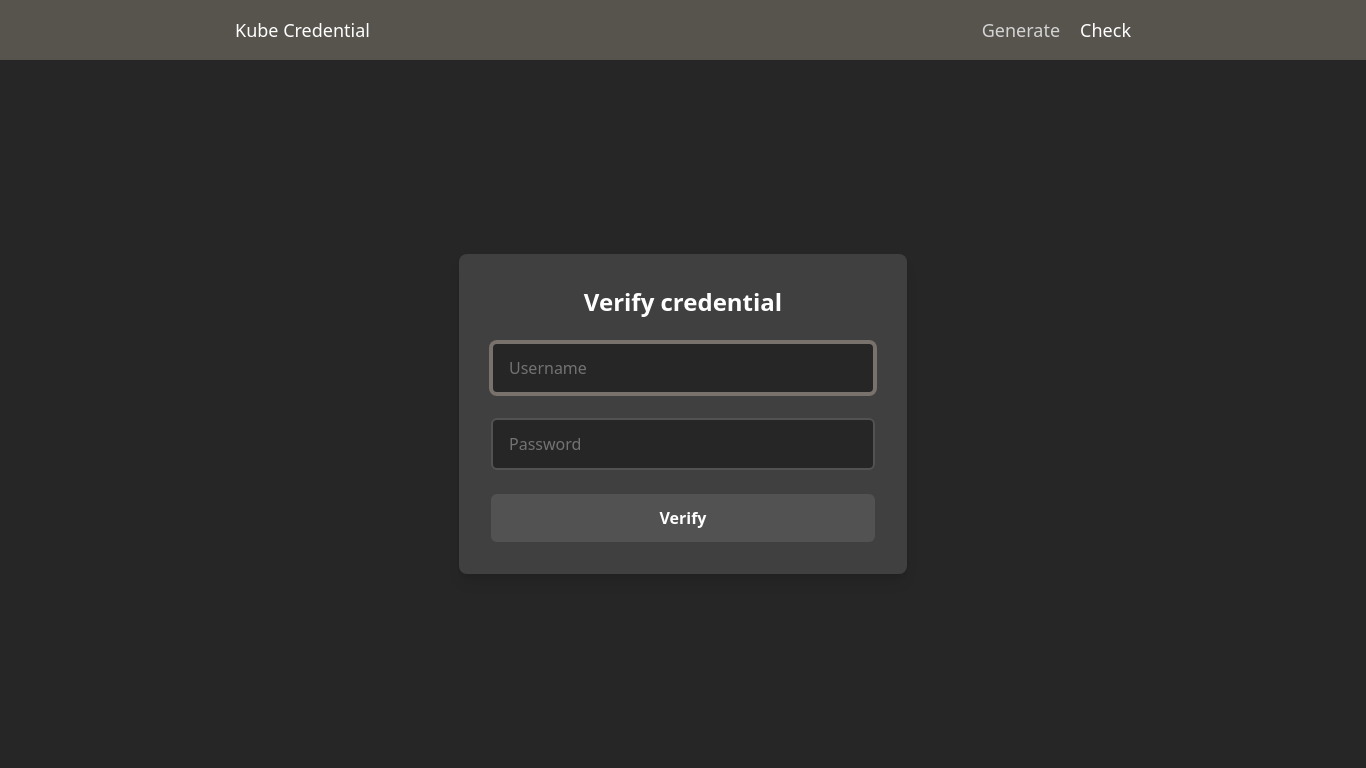
Test: VerifyPage › should show an error modal when the username and password combo is invalid
Type "test-user" into the field with placeholder "Username" at (683, 368), box 491,342 -> 875,394
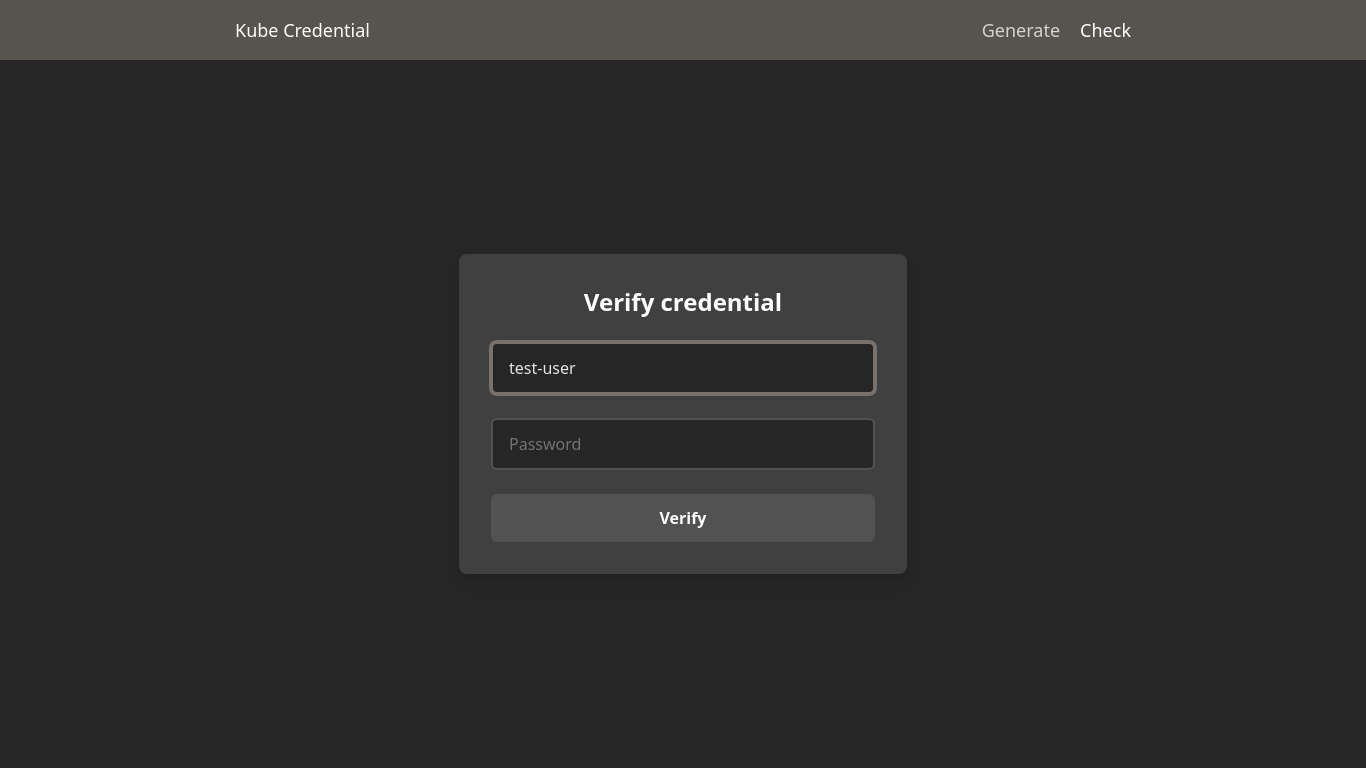
Type "test-password-123" into the password field with placeholder "Password" at (683, 444), box 491,418 -> 875,470
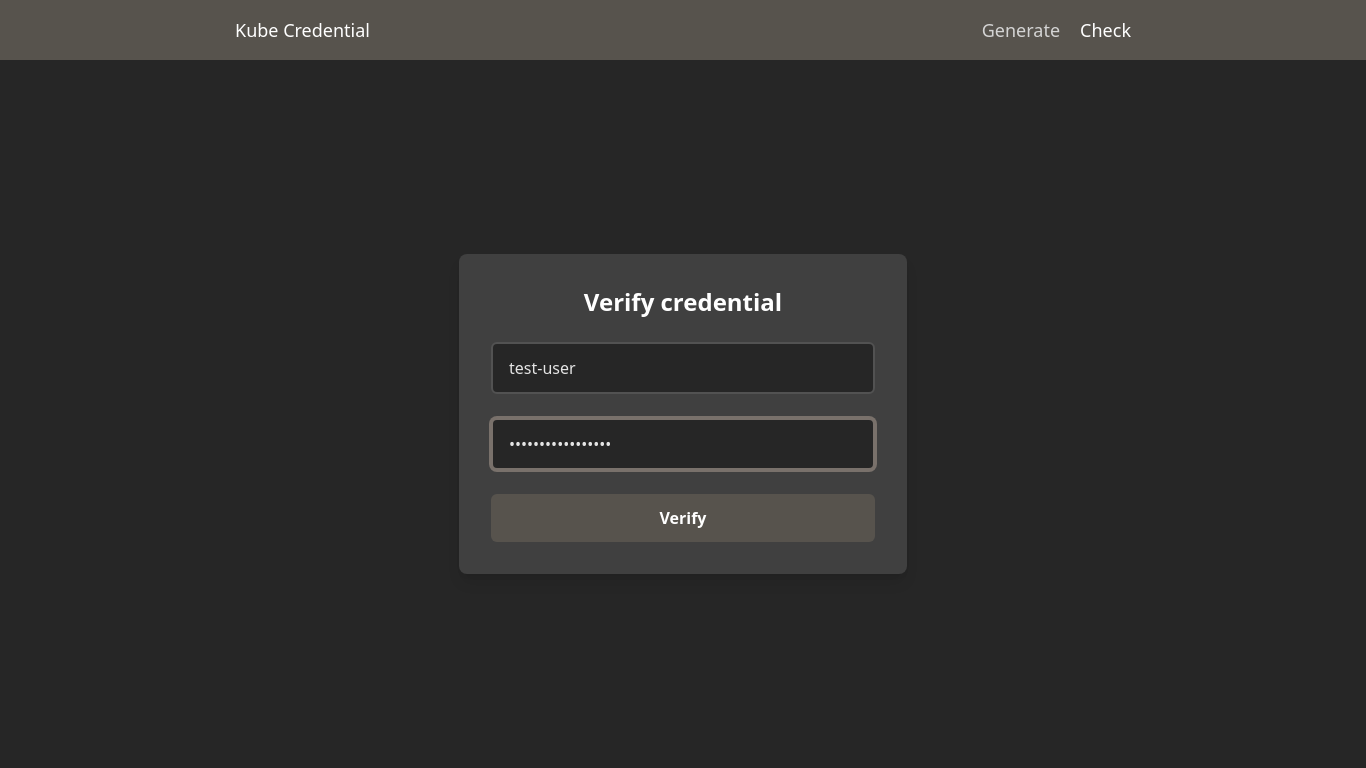
Click the button "Verify" at (683, 518), box 491,494 -> 875,542
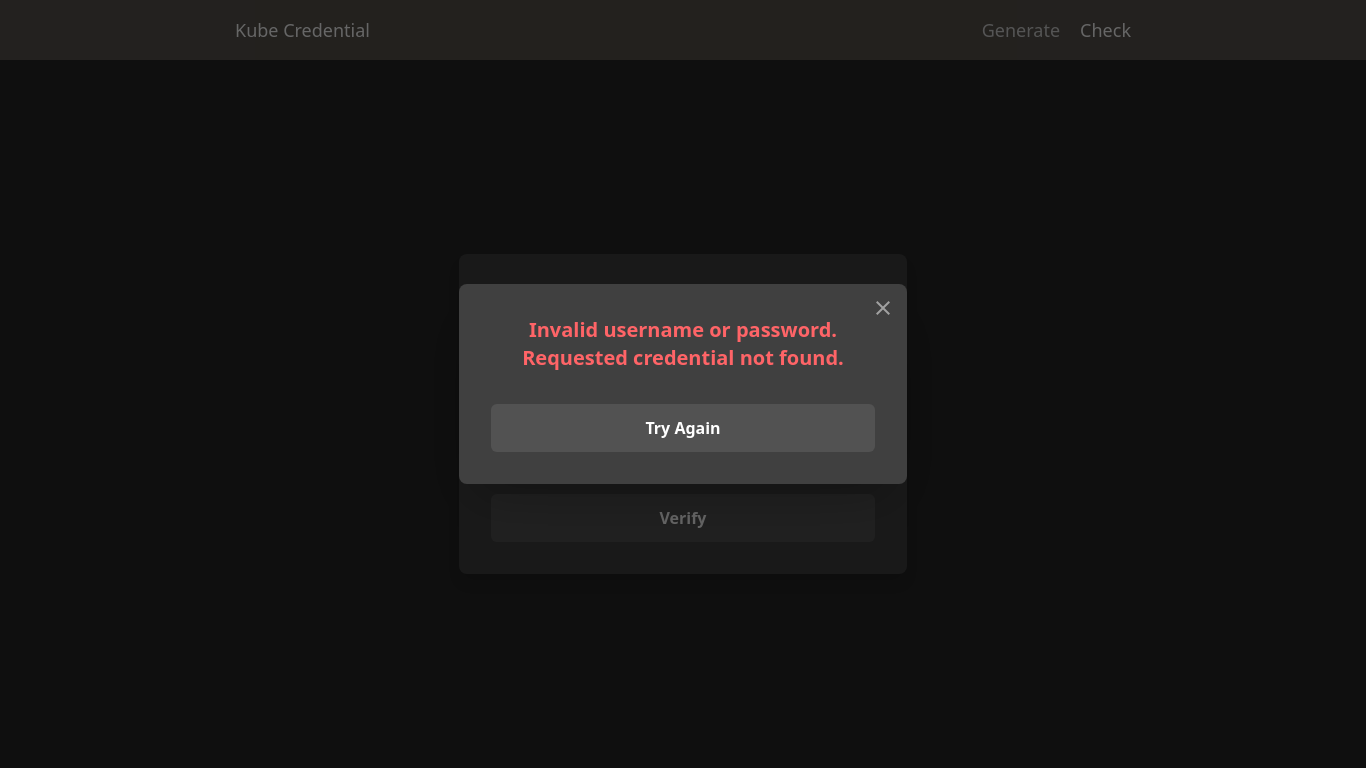
Check: the button "Verify" is disabled, box 491,494 -> 875,542
Check: the heading "Invalid username or password. Requested credential not found." is shown, box 522,316 -> 844,371
Check: the button "Try Again" is shown, box 491,404 -> 875,452
